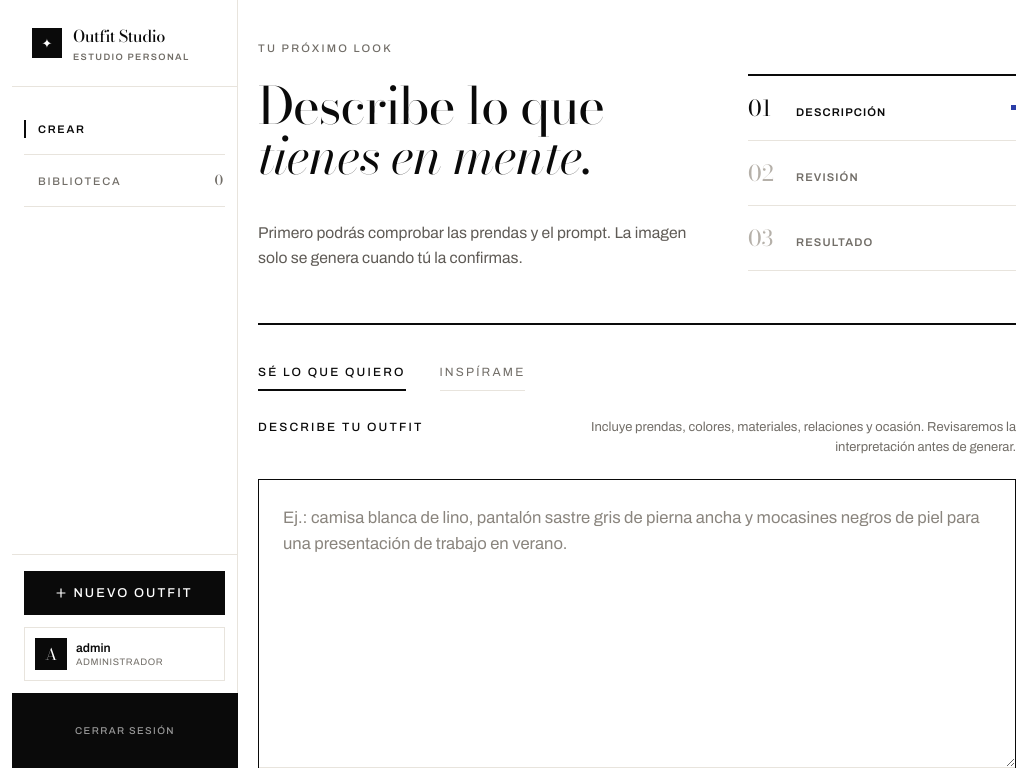
Test: flujo principal › reutiliza el análisis al editar la descripción en vez de dejarlo huérfano
Replace the text in the text box labelled "Describe tu outfit" with "camisa blanca de lino metida dentro del pantalón negro" at (637, 623), box top-left (259, 480), bottom-right (1015, 767)
(page scrolled)
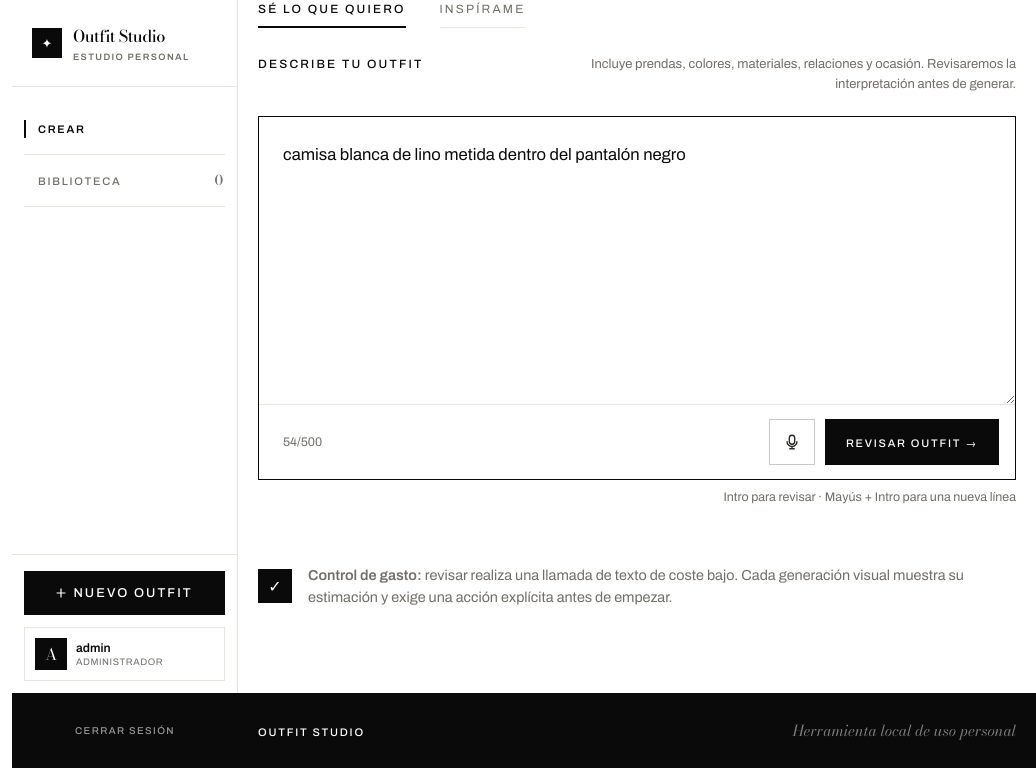
Click the button "Revisar outfit →" at (912, 442), box top-left (825, 419), bottom-right (999, 465)
(page scrolled)
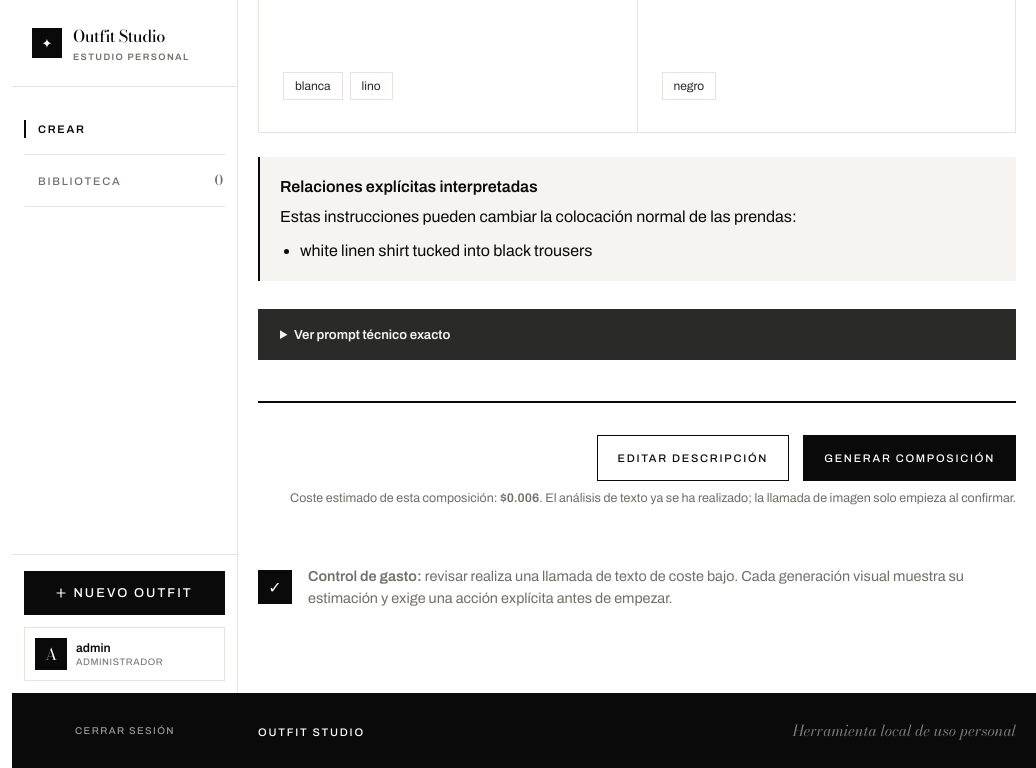
Click the button "Editar descripción" at (693, 458), box top-left (597, 435), bottom-right (789, 481)
(page scrolled)
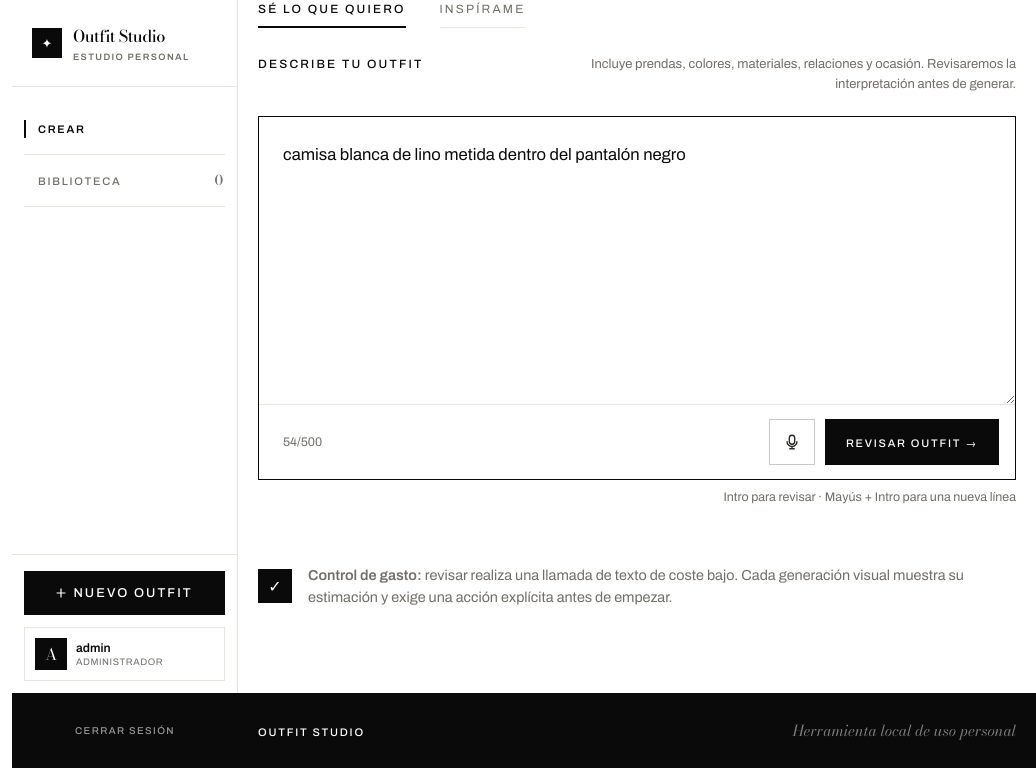
Replace the text in the text box labelled "Describe tu outfit" with "camisa blanca de lino y pantalón negro de vestir" at (637, 260), box top-left (259, 117), bottom-right (1015, 404)
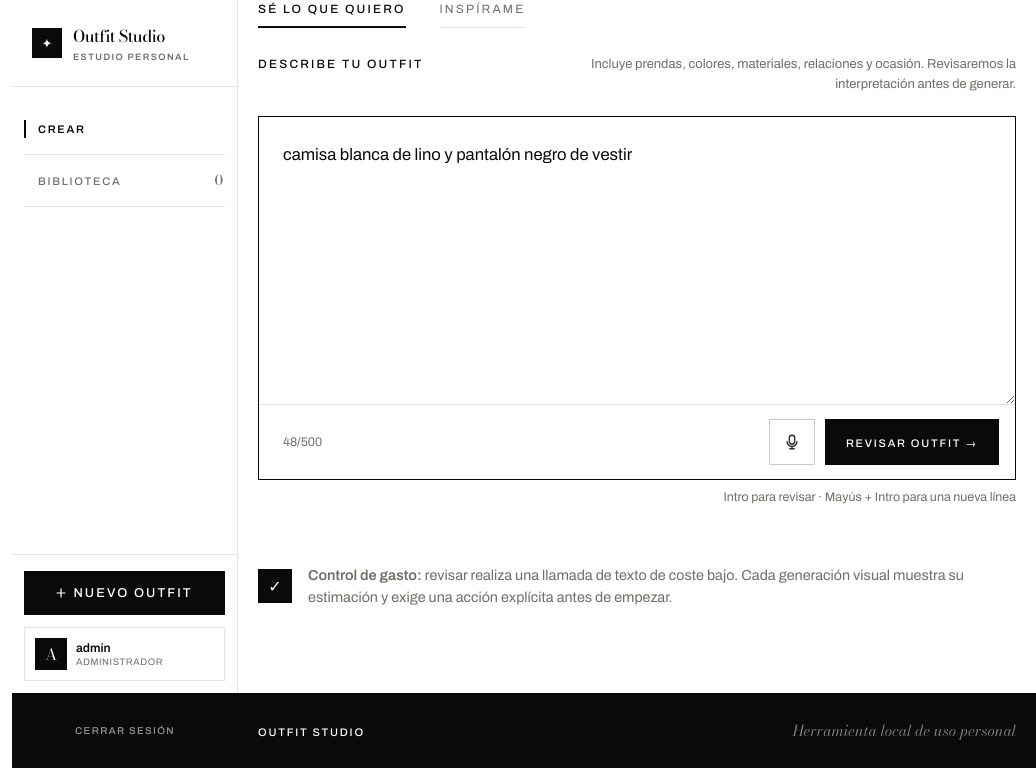
Click the button "Revisar outfit →" at (912, 442), box top-left (825, 419), bottom-right (999, 465)
(page scrolled)
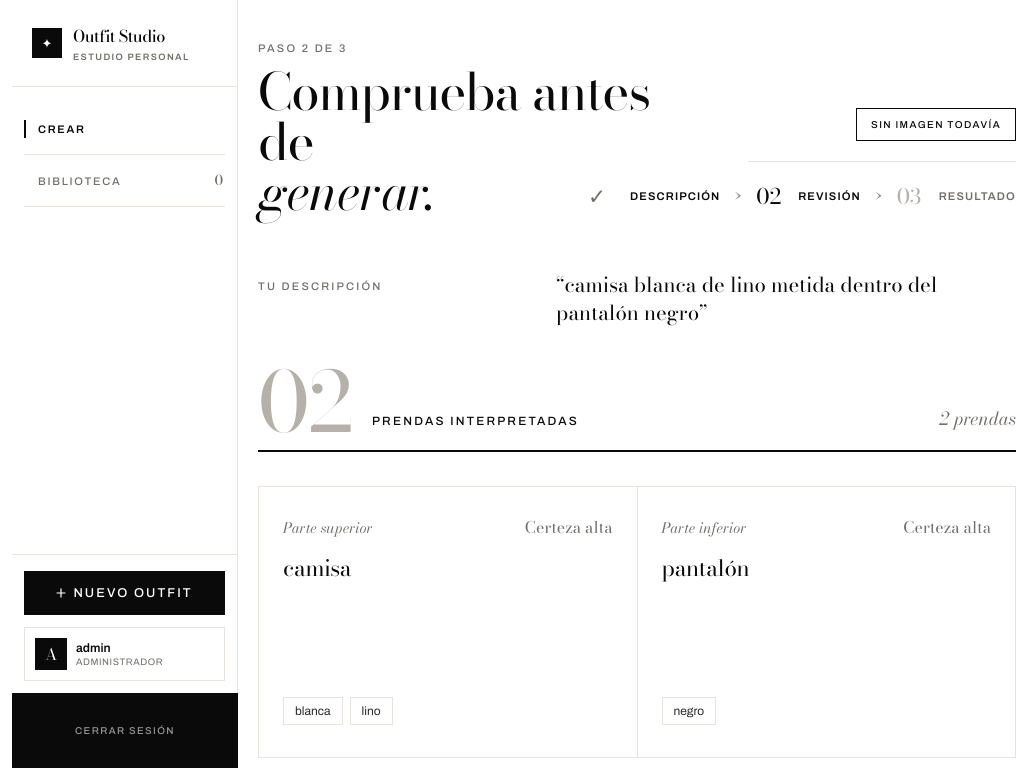
Check: the text "Paso 2 de 3" is shown, box top-left (258, 42), bottom-right (348, 54)
